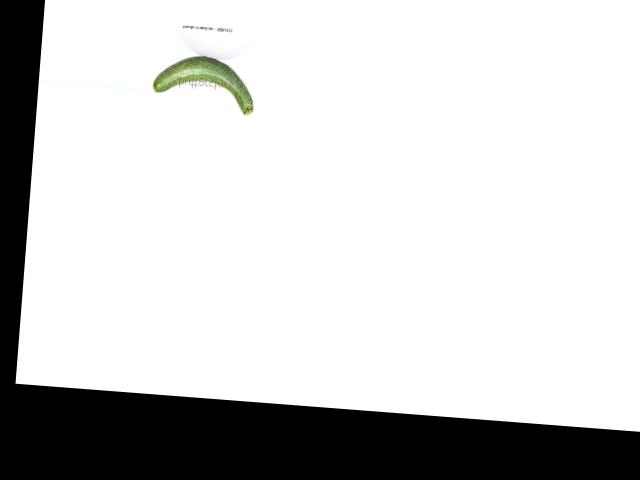cucumber: (151, 53, 257, 115)
